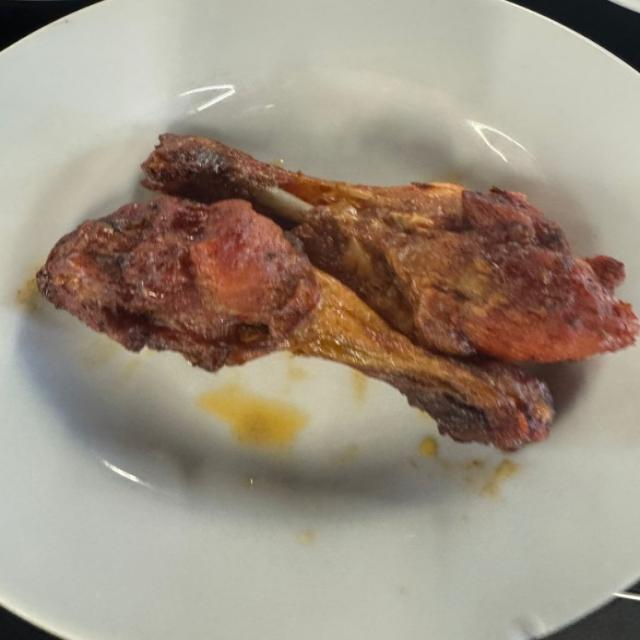ana_yemek: (33, 130, 638, 453)
